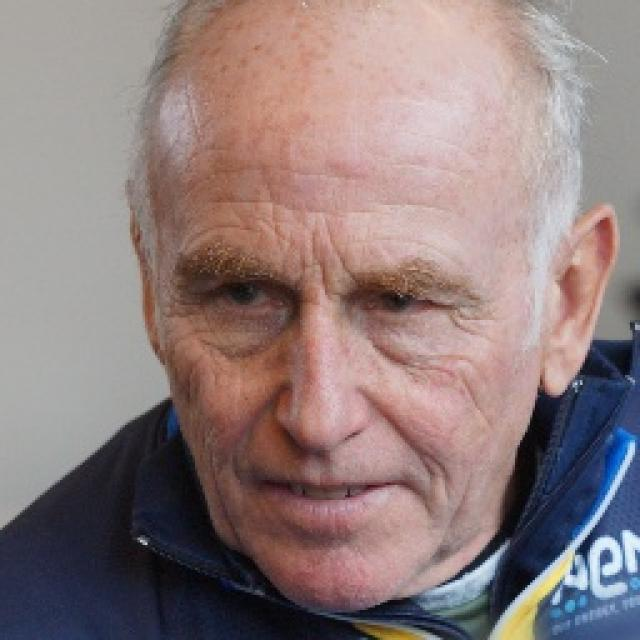earlobe: (540, 202, 620, 398)
